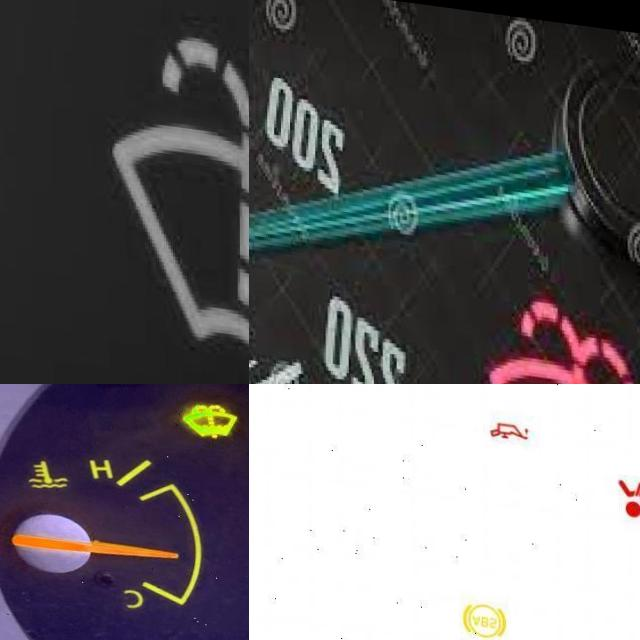Washer Fluid: (107, 15, 249, 384), (491, 282, 640, 384), (176, 389, 243, 437)
